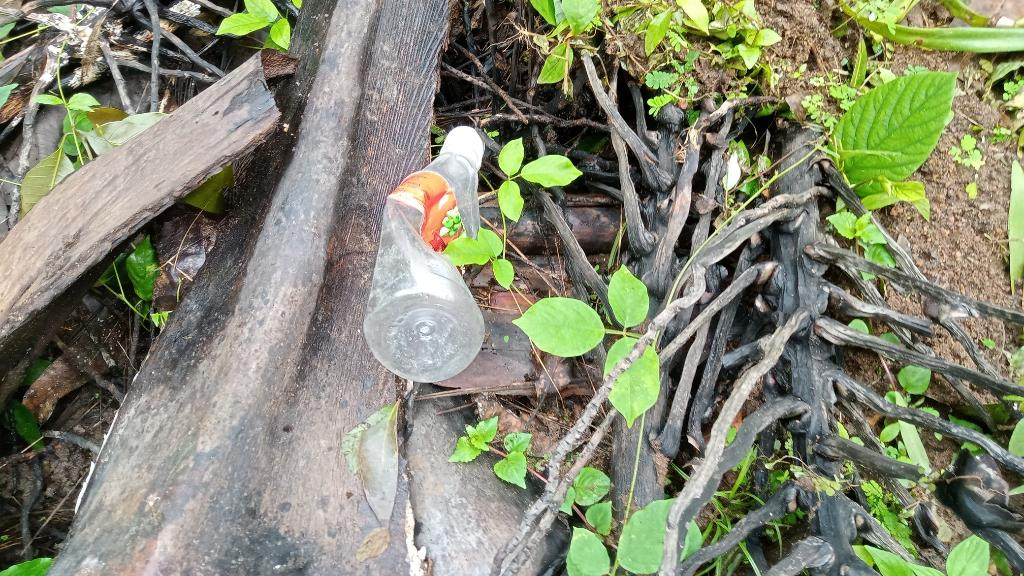garbage: (361, 116, 507, 396)
